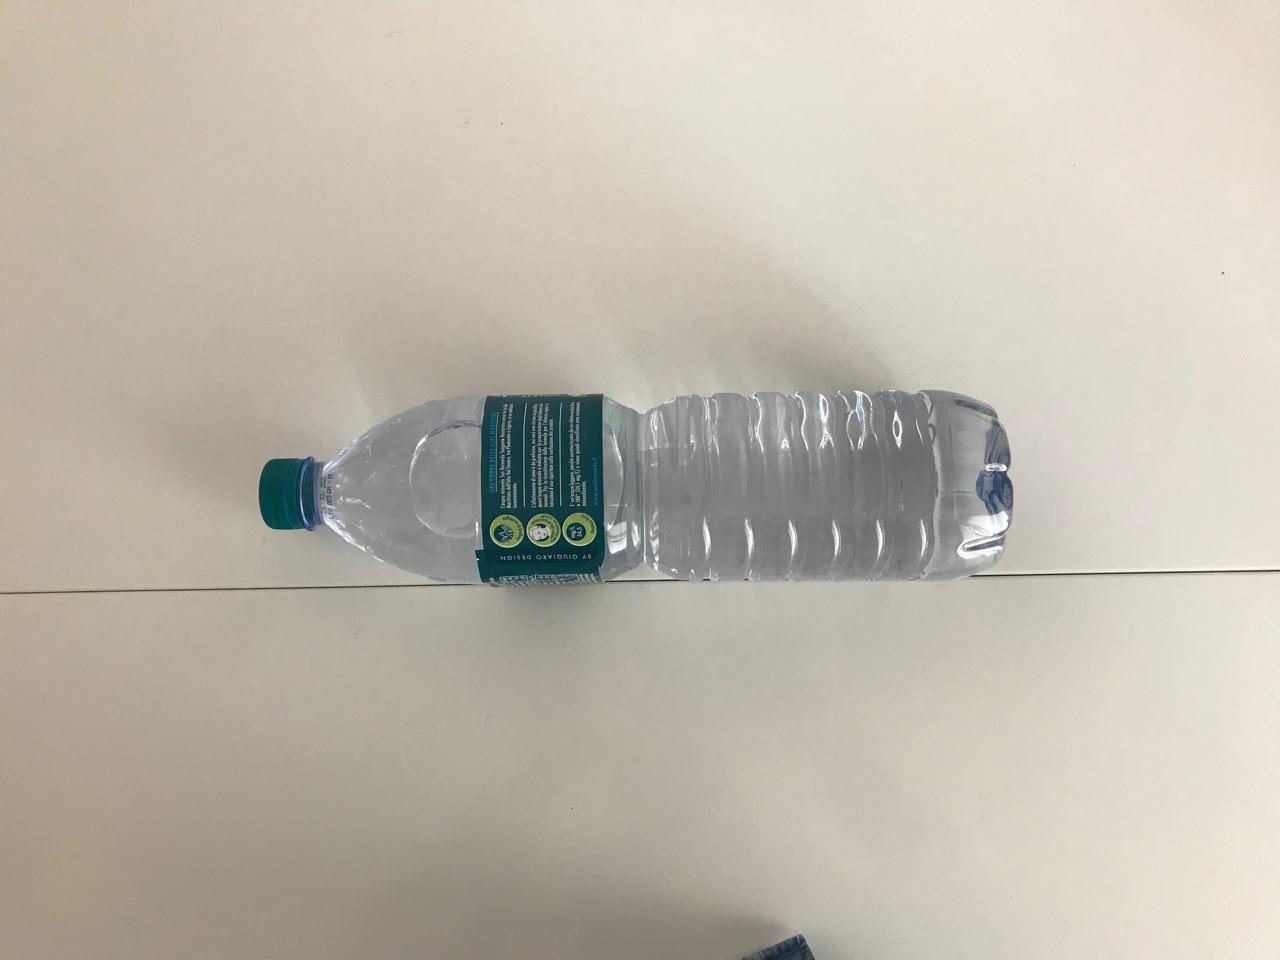san_bernardo: (257, 389, 1015, 589)
